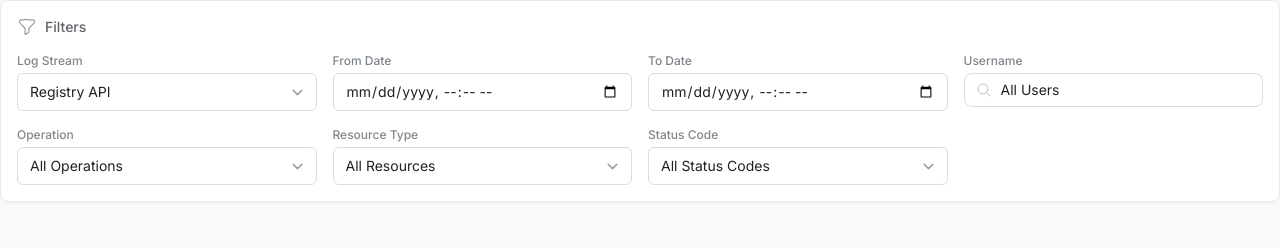
AuditFilterBar identity search › keeps the enumerated username list for registry_api
Click the field with placeholder "Search username..." below "Username" at (1113, 90), box left=964, top=73, right=1263, bottom=107
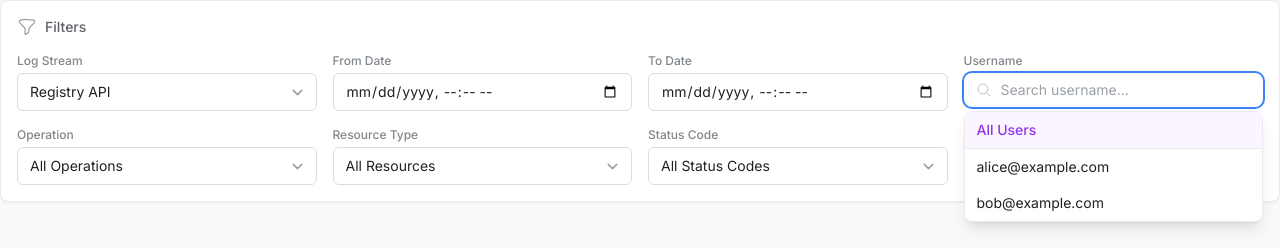
Now the text "alice@example.com" is shown, box left=976, top=158, right=1109, bottom=175
